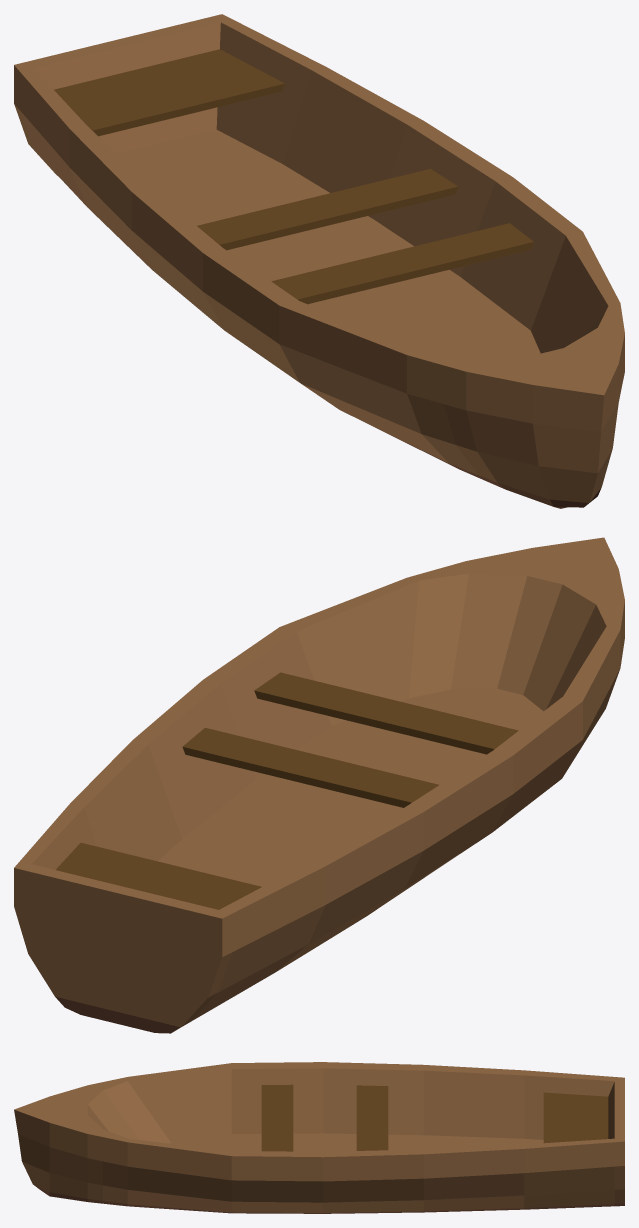
File: Wood_BoatV1.glb
3 renders of one model, top to bottom at view 1: azimuth 30°, elevation 25°; view 2: azimuth 150°, elevation 25°; view 3: azimuth 270°, elevation 25°, orthographic. The views are drawn at different scales.
Visible parts, largest first — view 1: Wood_BoatV1; view 2: Wood_BoatV1; view 3: Wood_BoatV1.
Part boxes in pixels (bbox=[...]): Wood_BoatV1: bbox=[14, 14, 624, 508]; Wood_BoatV1: bbox=[14, 537, 624, 1033]; Wood_BoatV1: bbox=[14, 1062, 624, 1213].
Size of the model in its own units: 1.49 by 0.5992 by 4.04.
Materials: 1 (1 with a texture image).
